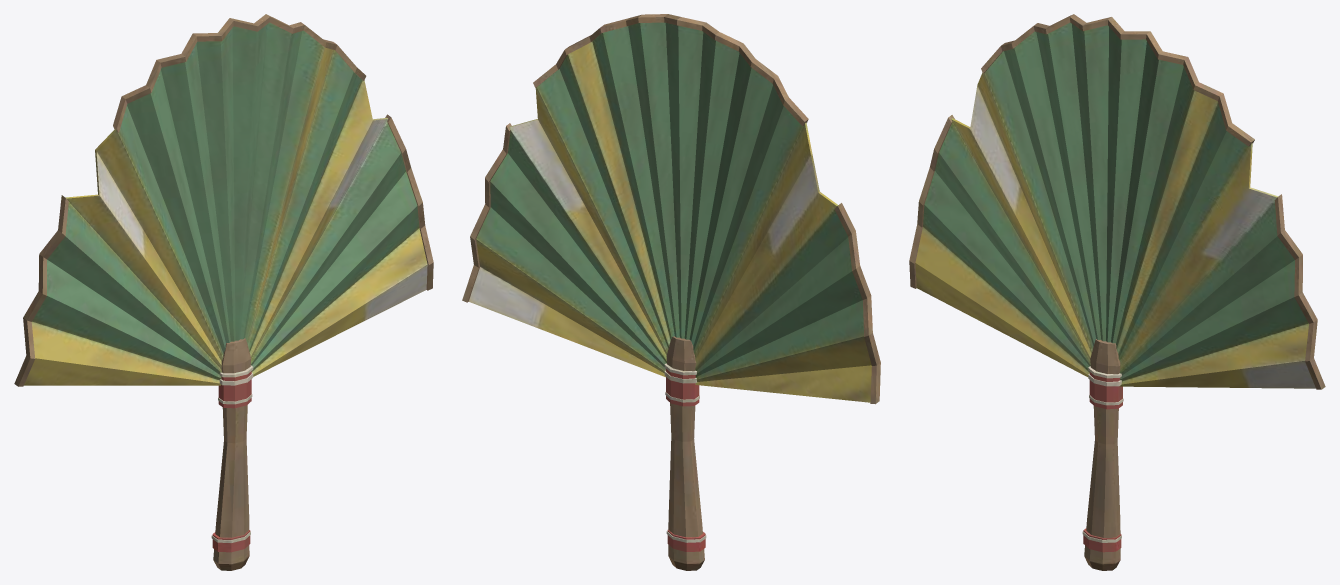
Rendered from L32_hand_fan.glb.
The picture shows the model from 3 angles, left to right: view 1: azimuth 30°, elevation 25°; view 2: azimuth 150°, elevation 25°; view 3: azimuth 330°, elevation 25°; orthographic projection.
Parts seen in each view (by area): view 1: Palm leaf hand fan; view 2: Palm leaf hand fan; view 3: Palm leaf hand fan.
Part boxes in pixels (left/top/right/bottom): Palm leaf hand fan: left=14, top=14, right=433, bottom=570; Palm leaf hand fan: left=462, top=14, right=880, bottom=570; Palm leaf hand fan: left=909, top=14, right=1325, bottom=570.
Bounding box in the file's own units: 0.3172 × 0.4 × 0.0294.
Materials: 7 (7 with a texture image).
